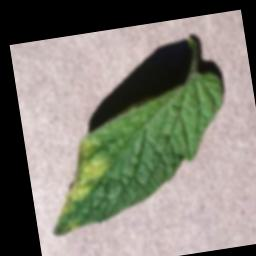Leaf_Mold: (39, 131, 120, 237)
